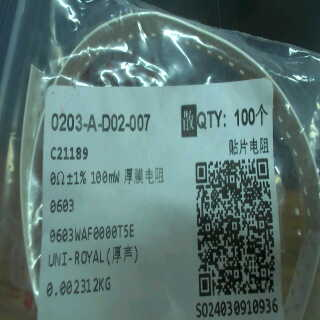0R: (46, 169, 87, 214)
